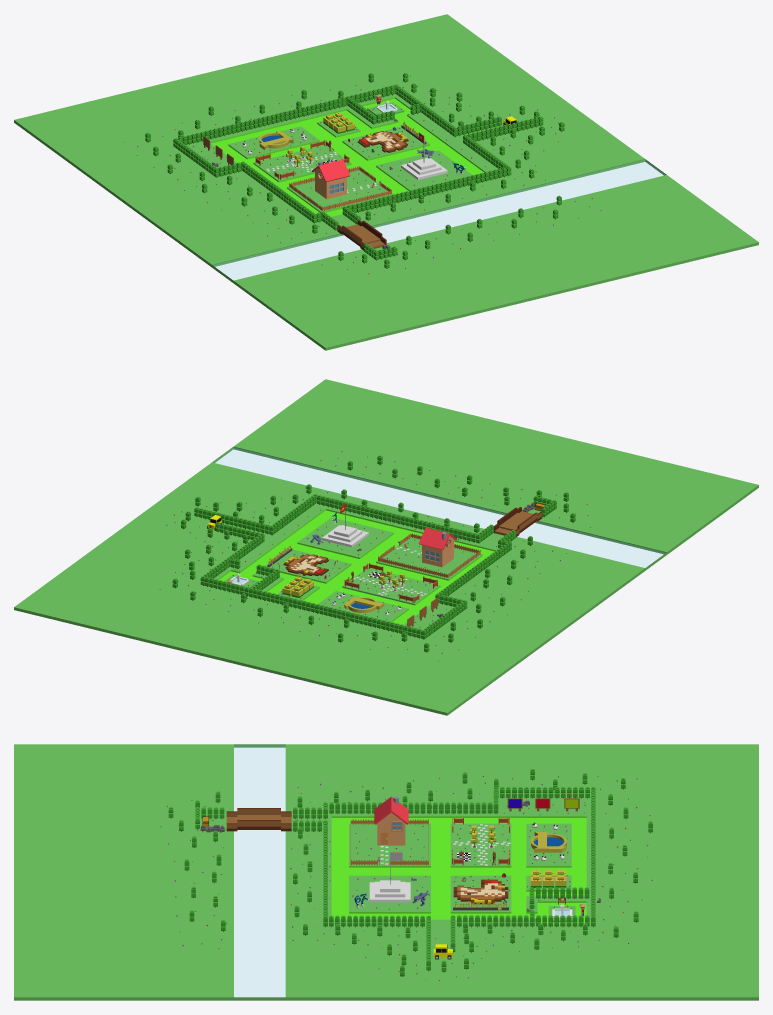
File: portfolio.glb
3 renders of one model, top to bottom at view 1: azimuth 30°, elevation 25°; view 2: azimuth 150°, elevation 25°; view 3: azimuth 270°, elevation 25°, orthographic. The views are drawn at different scales.
Visible parts, largest first — view 1: Ground; view 2: Ground; view 3: Ground.
Boxes of the visible parts, left/top/right/bottom form: Ground: left=14, top=14, right=758, bottom=350; Ground: left=14, top=379, right=758, bottom=715; Ground: left=14, top=744, right=758, bottom=1000.
Bounding box in the file's own units: 398 × 33.04 × 496.
Materials: 115 (3 with a texture image).
